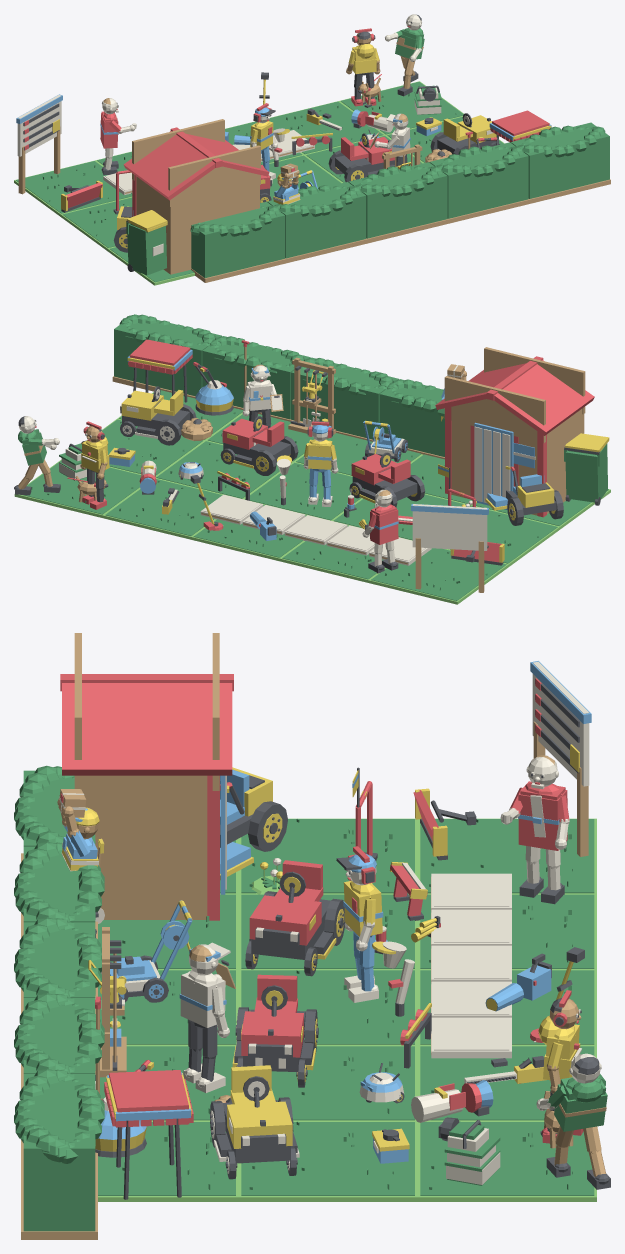
The model's file is lawn-mowing-simulator-kit-shed-and-upgrade-bay-5dc1e664__27419.glb.
The picture shows the model from 3 angles, top to bottom: view 1: azimuth 30°, elevation 25°; view 2: azimuth 150°, elevation 25°; view 3: azimuth 270°, elevation 25°; orthographic projection. The views are drawn at different scales.
Visible parts, largest first — view 1: 025-garden-shed/0, 015-hedge-block-2m/1, 019-hedge-block-2m/1, 018-hedge-block-2m/1, 017-hedge-block-2m/1, 016-hedge-block-2m/1, 025-garden-shed/1, 000-lawn-tile-2m-cut/1, 009-lawn-tile-2m-cut/1, 012-lawn-tile-2m-cut/1, 060-wheelie-bin/0, 001-lawn-tile-2m-cut/1 (+34 smaller); view 2: 025-garden-shed/0, 025-garden-shed/1, 017-hedge-block-2m/1, 019-hedge-block-2m/1, 018-hedge-block-2m/1, 016-hedge-block-2m/1, 009-lawn-tile-2m-cut/1, 000-lawn-tile-2m-cut/1, 007-lawn-tile-2m-cut/1, 045-leaderboard-sign-board/1, 010-lawn-tile-2m-cut/1, 012-lawn-tile-2m-cut/1 (+54 smaller); view 3: 025-garden-shed/0, 025-garden-shed/1, 019-hedge-block-2m/1, 013-lawn-tile-2m-cut/1, 012-lawn-tile-2m-cut/1, 010-lawn-tile-2m-cut/1, 001-lawn-tile-2m-cut/1, 000-lawn-tile-2m-cut/1, 007-lawn-tile-2m-cut/1, 014-lawn-tile-2m-cut/1, 018-hedge-block-2m/1, 003-lawn-tile-2m-cut/1 (+55 smaller).
Part boxes in pixels (x1,y1,x2,y2): 025-garden-shed/0: (132, 119, 260, 274); 015-hedge-block-2m/1: (190, 201, 285, 278); 019-hedge-block-2m/1: (510, 122, 609, 198); 018-hedge-block-2m/1: (429, 142, 528, 218); 017-hedge-block-2m/1: (348, 162, 447, 238); 016-hedge-block-2m/1: (267, 182, 366, 258); 025-garden-shed/1: (123, 127, 269, 216); 000-lawn-tile-2m-cut/1: (16, 161, 132, 213); 009-lawn-tile-2m-cut/1: (269, 101, 383, 154); 012-lawn-tile-2m-cut/1: (341, 82, 463, 134); 060-wheelie-bin/0: (126, 222, 166, 275); 001-lawn-tile-2m-cut/1: (63, 197, 132, 247); 025-garden-shed/0: (444, 347, 585, 515); 025-garden-shed/1: (435, 356, 594, 517); 017-hedge-block-2m/1: (291, 357, 399, 439); 019-hedge-block-2m/1: (114, 314, 221, 395); 018-hedge-block-2m/1: (202, 336, 310, 419); 016-hedge-block-2m/1: (379, 379, 444, 456); 009-lawn-tile-2m-cut/1: (105, 479, 222, 535); 000-lawn-tile-2m-cut/1: (371, 548, 506, 600); 007-lawn-tile-2m-cut/1: (245, 462, 363, 520); 045-leaderboard-sign-board/1: (412, 504, 487, 550); 010-lawn-tile-2m-cut/1: (156, 441, 279, 498); 012-lawn-tile-2m-cut/1: (23, 460, 141, 514); 025-garden-shed/0: (74, 633, 219, 919); 025-garden-shed/1: (60, 674, 233, 920); 019-hedge-block-2m/1: (14, 1068, 104, 1231); 013-lawn-tile-2m-cut/1: (241, 1121, 414, 1195); 012-lawn-tile-2m-cut/1: (420, 1122, 594, 1195); 010-lawn-tile-2m-cut/1: (271, 1046, 414, 1120); 001-lawn-tile-2m-cut/1: (241, 818, 414, 893); 000-lawn-tile-2m-cut/1: (420, 818, 594, 893); 007-lawn-tile-2m-cut/1: (241, 970, 414, 1044); 014-lawn-tile-2m-cut/1: (98, 1122, 235, 1195); 018-hedge-block-2m/1: (14, 993, 104, 1073); 003-lawn-tile-2m-cut/1: (420, 894, 594, 968).
Size of the model in its own units: 11.41 by 2.57 by 6.66.
